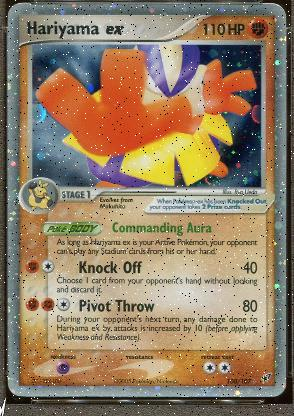Card: (5, 2, 287, 396)
